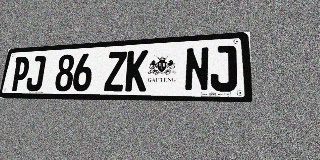6: (72, 53, 94, 91)
8: (54, 54, 76, 91)
J: (210, 45, 237, 91), (25, 56, 46, 91)
K: (124, 50, 148, 91)
N: (184, 46, 209, 91)
P: (10, 56, 31, 91)
Z: (104, 51, 127, 91)
